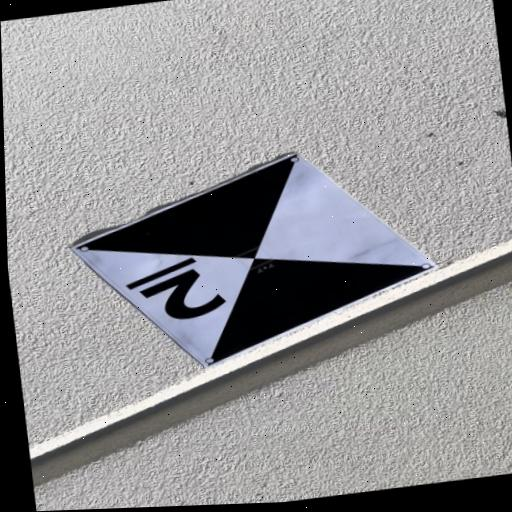target2: (69, 152, 438, 370)
